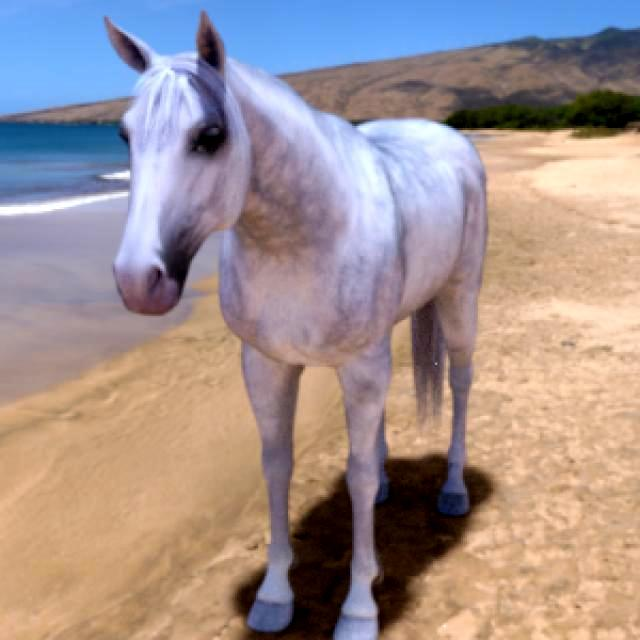horse: (106, 14, 488, 640)
